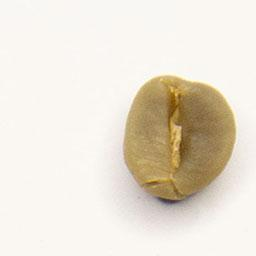premium: (117, 70, 240, 207)
